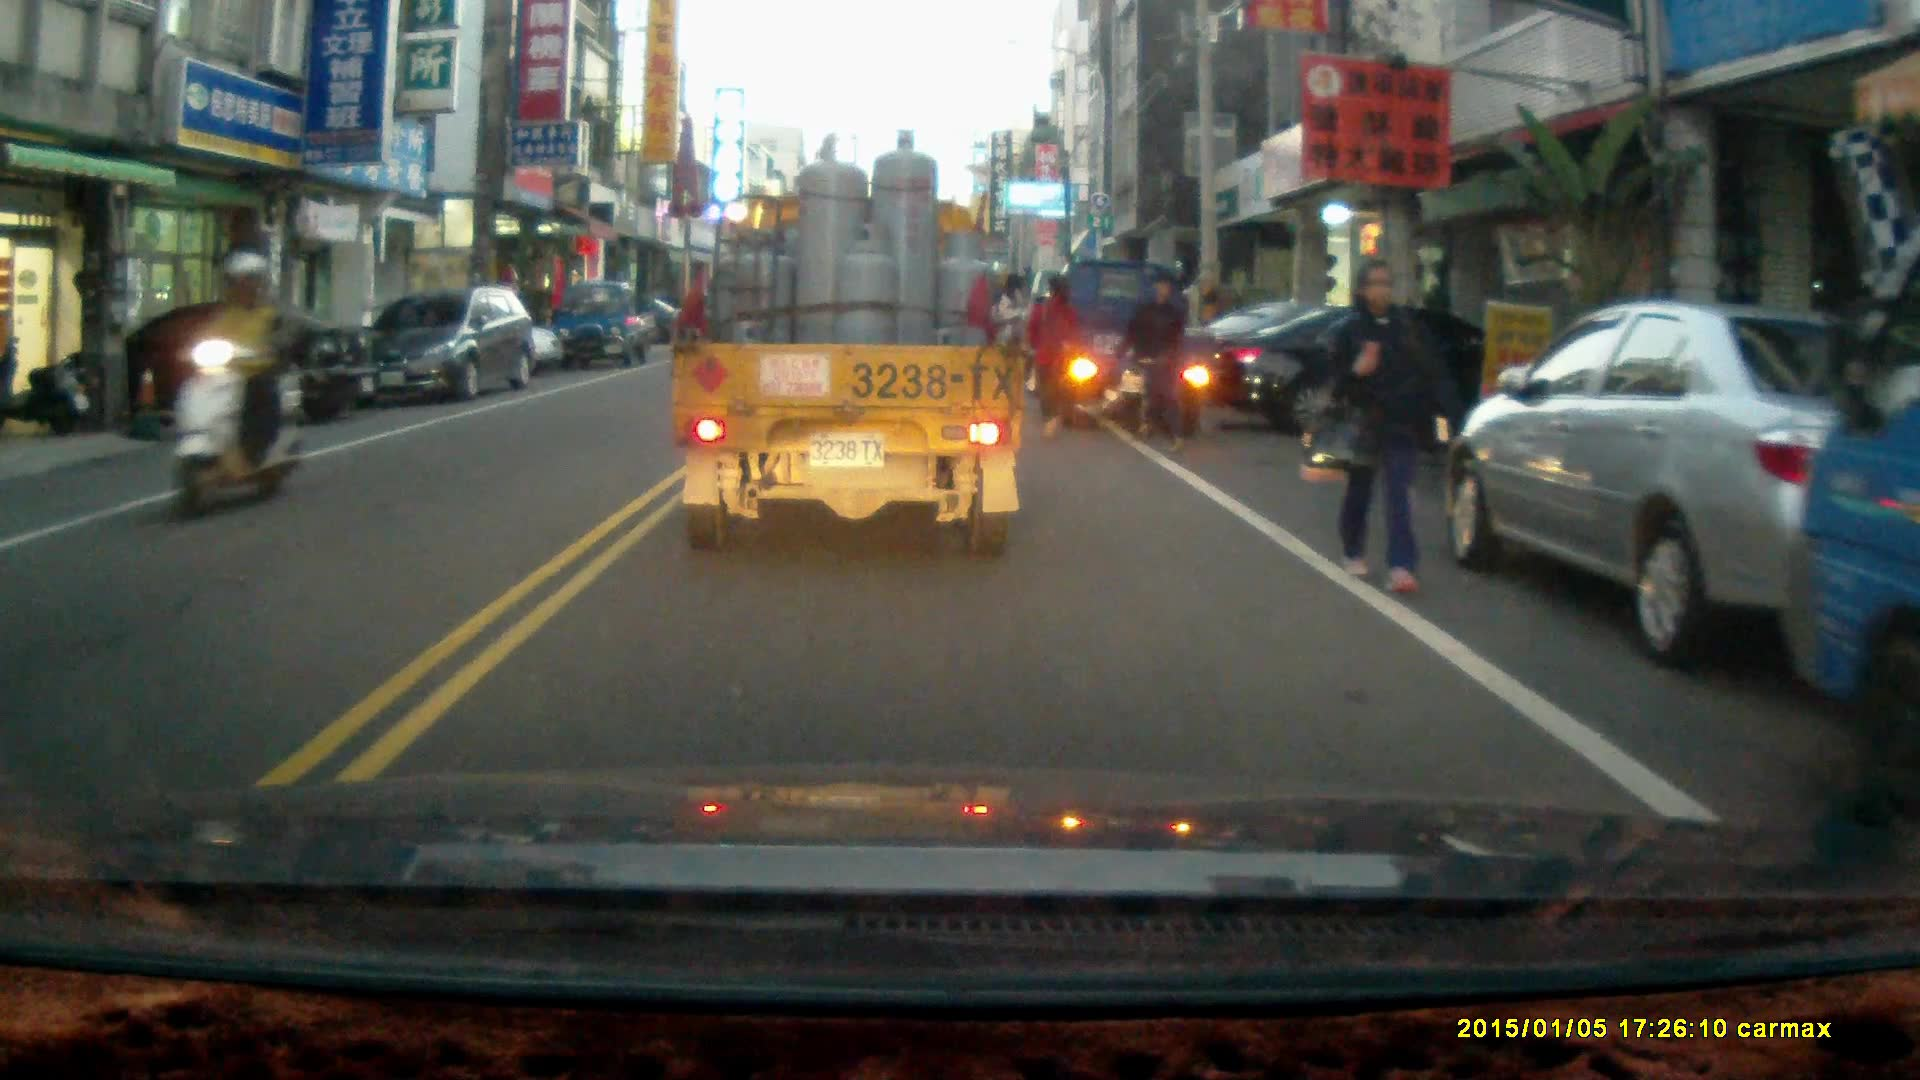pedestrian: (1324, 257, 1438, 594), (1118, 270, 1186, 452), (1021, 273, 1080, 442)
rider: (164, 250, 308, 524)
vehicle: (1443, 302, 1915, 669), (670, 128, 1032, 564), (1774, 293, 1920, 849), (1195, 298, 1527, 460), (23, 299, 377, 432), (1040, 261, 1227, 438), (359, 286, 539, 407), (554, 279, 658, 371)
